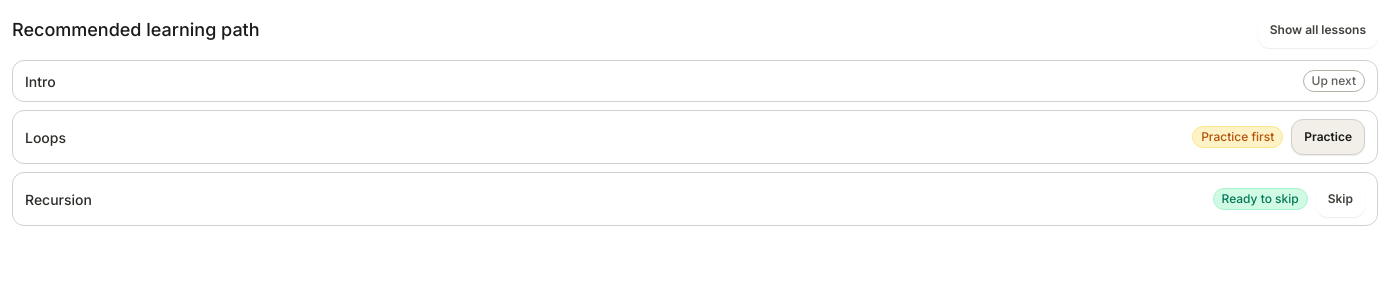
Scenario: LearningPath › shows the 'Show all lessons' toggle only when a lesson is ready-to-skip and reveals the full syllabus
Click the button with test id "toggle-show-all" at (1318, 30), box top-left (1258, 12), bottom-right (1378, 48)
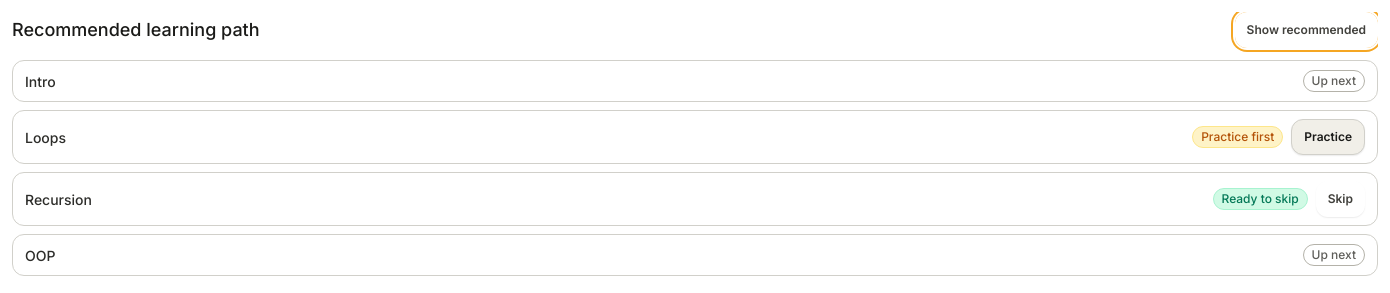
Expected: the text "Intro" is shown, top-left (25, 73), bottom-right (56, 90)
Expected: the button with test id "toggle-show-all" reads "Show recommended", top-left (1235, 12), bottom-right (1378, 48)
Expected: the text "OOP" is shown, top-left (25, 247), bottom-right (56, 264)
